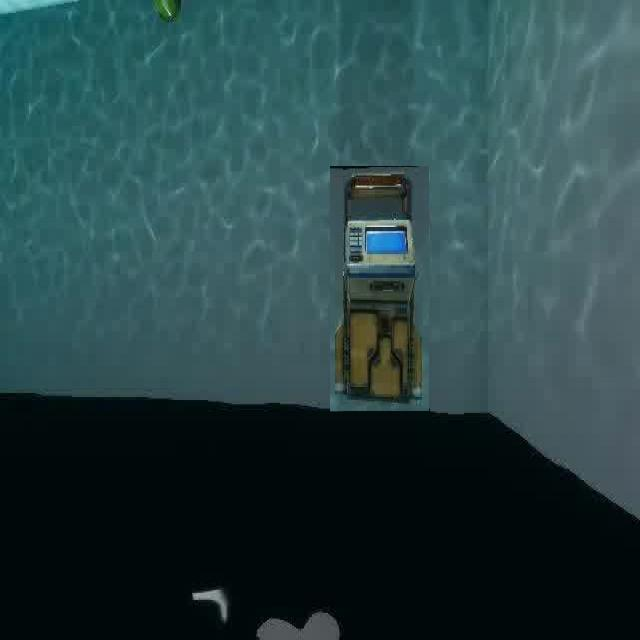Control Panel: (330, 166, 430, 412)
